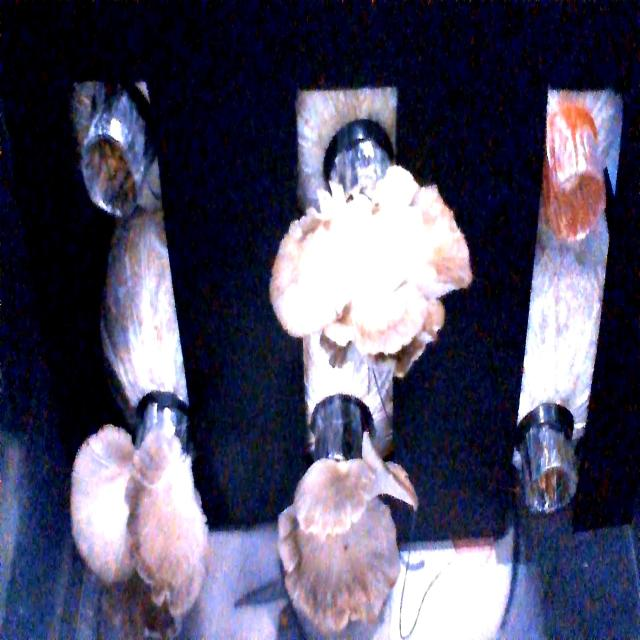big: (267, 182, 455, 356), (61, 427, 215, 608), (275, 438, 410, 628)
nfound: (75, 126, 148, 209), (548, 168, 606, 247), (522, 452, 577, 516)
